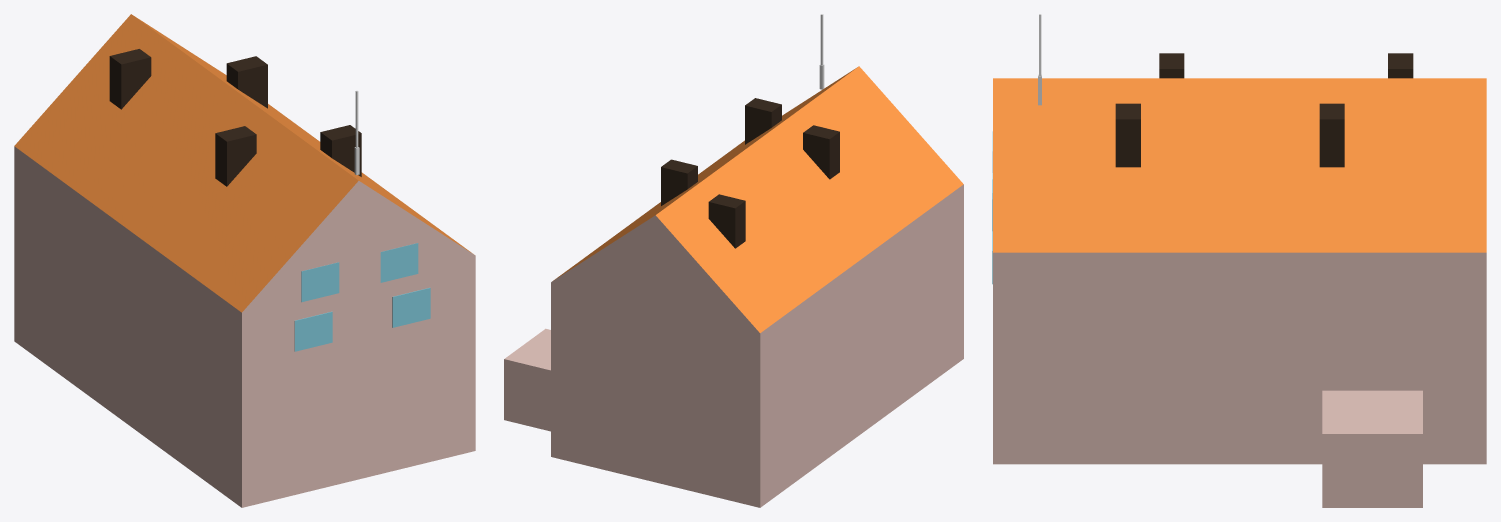
The model's file is house1_L.fbx.
The picture shows the model from 3 angles, left to right: view 1: azimuth 30°, elevation 25°; view 2: azimuth 150°, elevation 25°; view 3: azimuth 270°, elevation 25°; orthographic projection. The views are drawn at different scales.
Visible parts, largest first — view 1: Cube.002, Cube.021, Cube.022, Cube.012, Cube.011; view 2: Cube.002, Cube.008, Cube.021, Cube.022; view 3: Cube.002, Cube.008, Cube.022, Cube.021.
Part boxes in pixels (bbox=[...]): Cube.002: bbox=[14, 14, 475, 507]; Cube.021: bbox=[109, 49, 256, 186]; Cube.022: bbox=[226, 56, 361, 176]; Cube.012: bbox=[294, 287, 430, 351]; Cube.011: bbox=[301, 243, 418, 302]; Cube.002: bbox=[551, 66, 963, 507]; Cube.008: bbox=[504, 328, 550, 431]; Cube.021: bbox=[708, 125, 839, 248]; Cube.022: bbox=[661, 98, 781, 205]; Cube.002: bbox=[993, 78, 1486, 464]; Cube.008: bbox=[1322, 390, 1422, 507]; Cube.022: bbox=[1115, 103, 1344, 167]; Cube.021: bbox=[1159, 53, 1413, 78].
Bounding box in the file's own units: 15.19 × 19.01 × 16.92.
